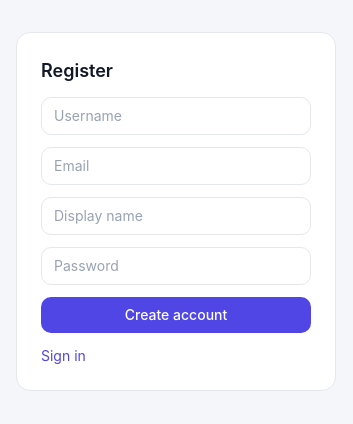
Test: Register form › shows a server error and does not navigate
Type "alice12" into the field with placeholder "Username" at (176, 116), box [41, 96, 311, 134]
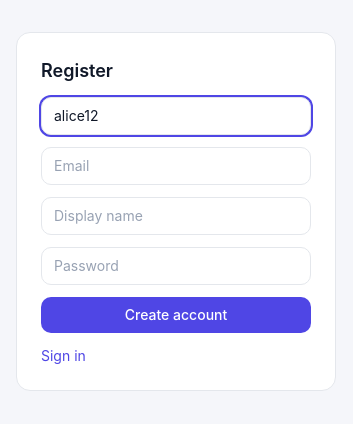
Type "alice@example.test" into the field with placeholder "Email" at (176, 166), box [41, 146, 311, 184]
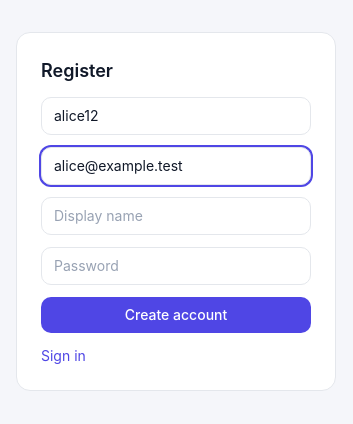
Type "Alice" into the field with placeholder "Display name" at (176, 216), box [41, 196, 311, 234]
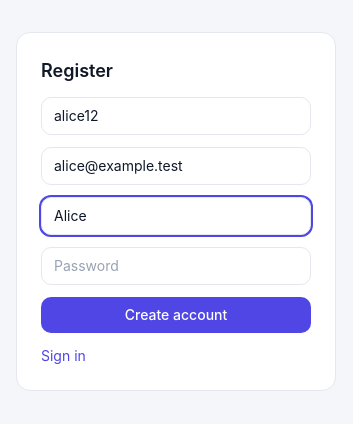
Type "abcd1234" into the password field with placeholder "Password" at (176, 266), box [41, 246, 311, 284]
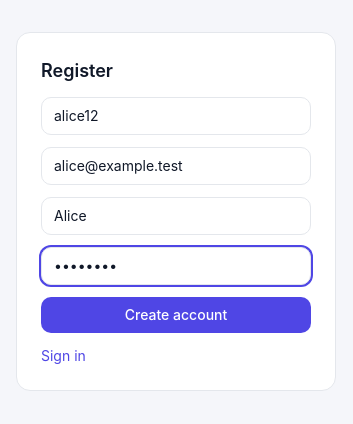
Click the button "Create account" at (176, 314), box [41, 296, 311, 332]
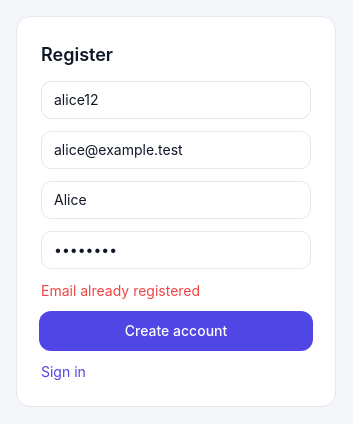
Result: the text "Email already registered" is shown at [41, 282, 200, 298]
